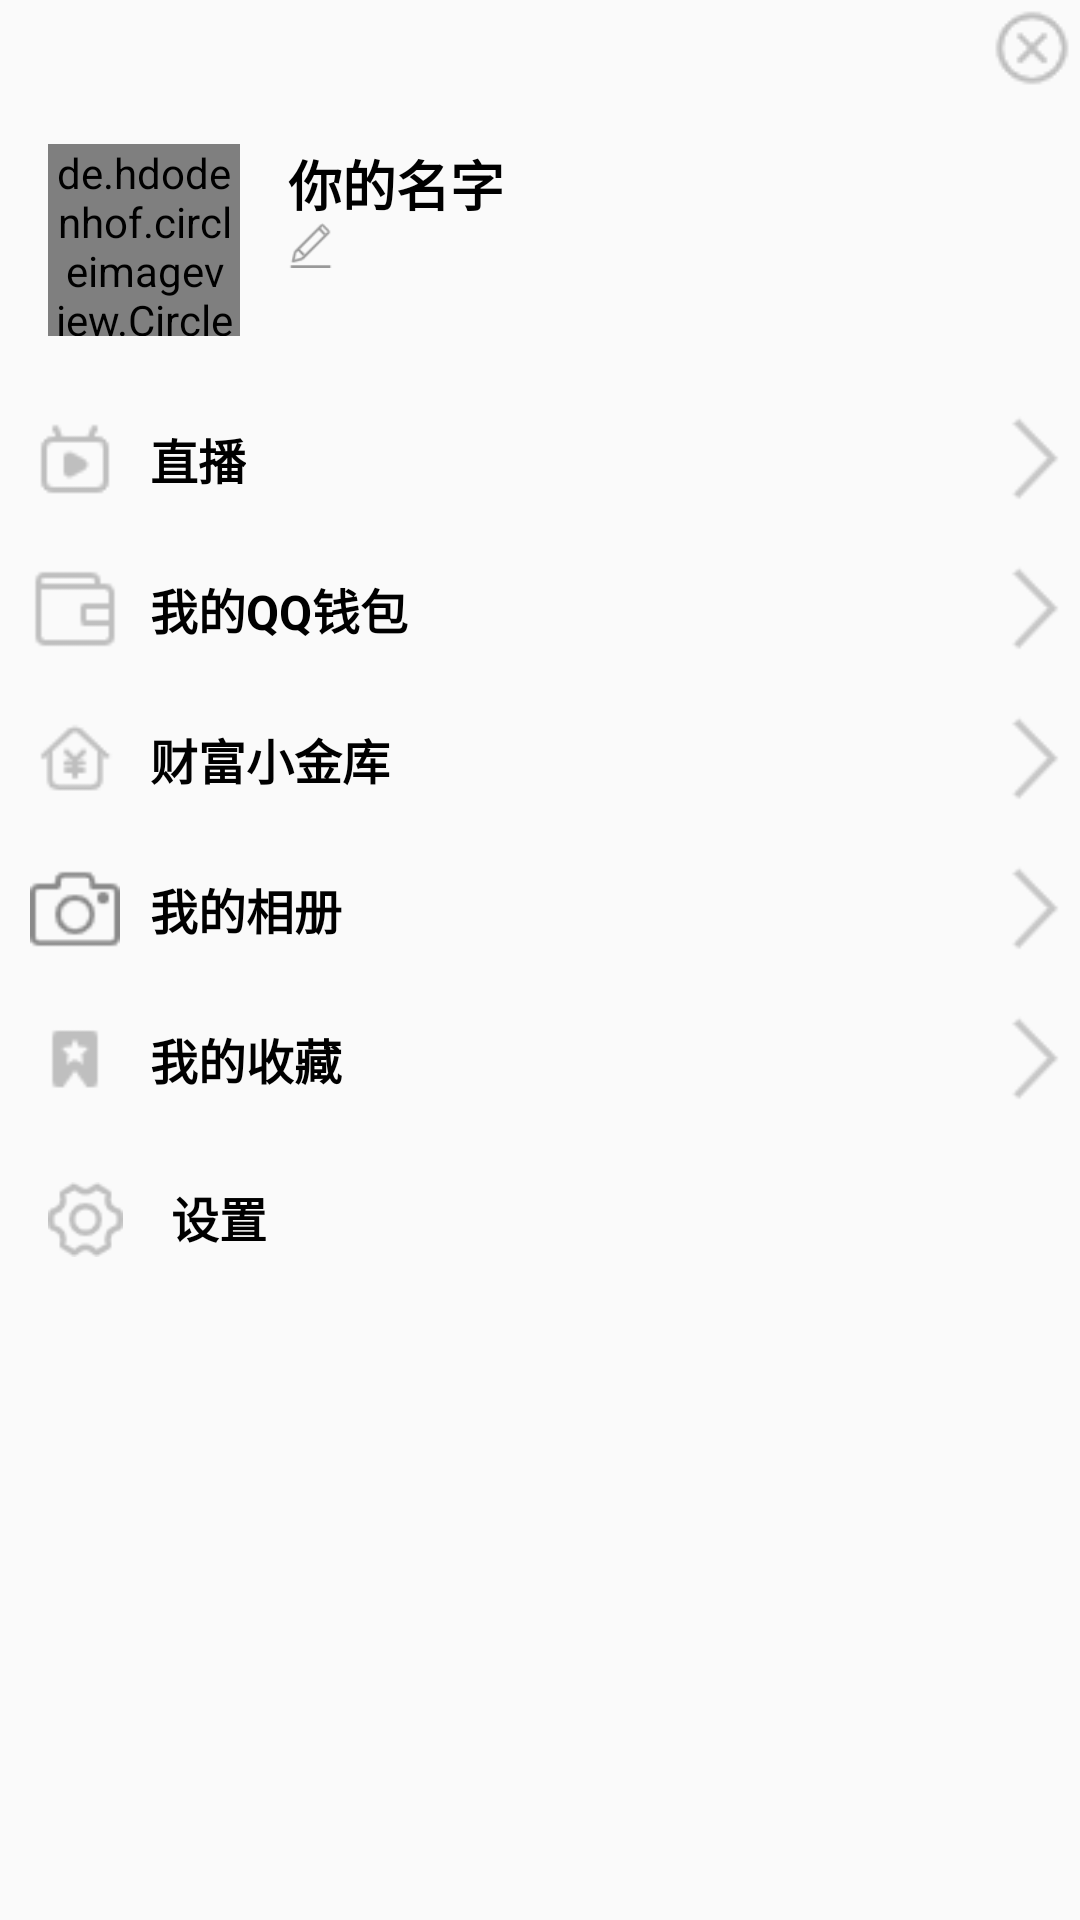

Icons on this 1080px x 1920px Android screen, each with its box as (x1, y1, x2, y2):
cancel: (996, 12, 1068, 84)
living: (41, 425, 109, 493)
photo: (30, 872, 120, 946)
revise: (290, 224, 331, 268)
setting: (48, 1184, 123, 1256)
wallet: (35, 572, 115, 646)
